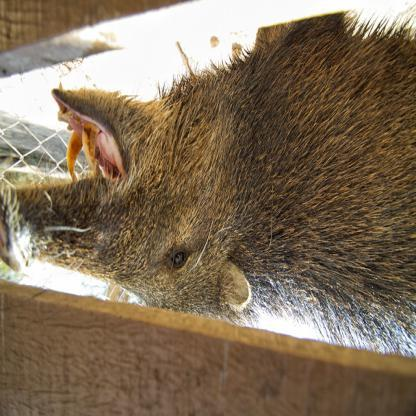boar: (0, 8, 416, 358)
